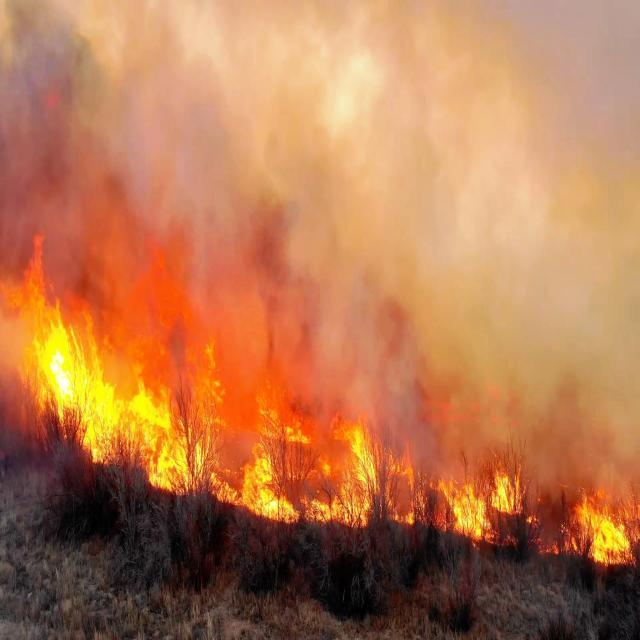Fire: (16, 270, 104, 461), (100, 352, 216, 482), (219, 438, 336, 530), (336, 432, 422, 528), (444, 458, 527, 543), (567, 487, 640, 567)
Smoke: (4, 1, 640, 292), (216, 354, 640, 429), (105, 294, 640, 352)
